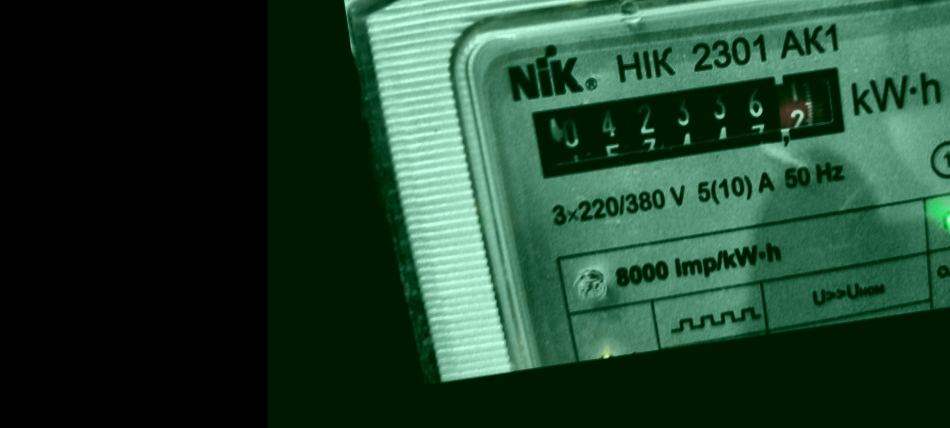0: (559, 114, 583, 150)
1: (786, 76, 802, 103)
2: (634, 99, 660, 136), (788, 106, 808, 130)
3: (670, 93, 693, 127), (709, 88, 731, 122)
4: (598, 105, 620, 139)
6: (744, 84, 769, 121)
screen: (518, 51, 863, 190)
